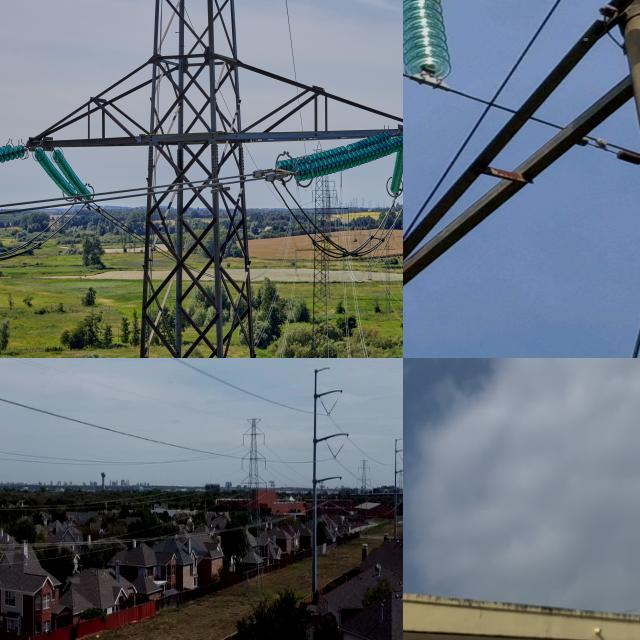杆塔: (26, 0, 403, 358), (403, 0, 640, 358), (238, 413, 270, 597), (355, 453, 372, 545)
正常电缆: (403, 67, 640, 169)
正常绝缘子: (273, 128, 396, 180), (403, 0, 462, 86), (300, 133, 403, 182), (32, 147, 79, 203), (51, 147, 95, 202), (389, 133, 403, 195), (0, 139, 27, 166), (240, 432, 246, 450), (262, 431, 266, 448), (240, 456, 244, 472), (264, 481, 268, 496), (264, 456, 266, 474)
